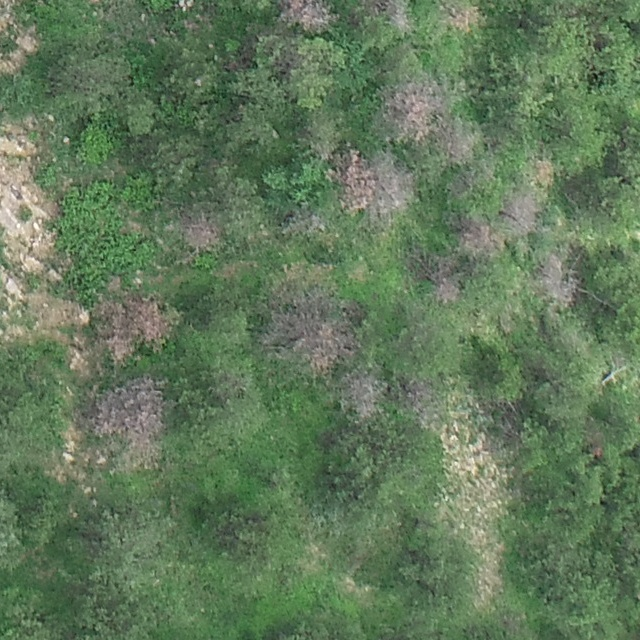unhealthy: (268, 287, 363, 377), (87, 372, 169, 452), (382, 79, 442, 140), (326, 154, 373, 213), (372, 156, 416, 212), (536, 252, 580, 307), (341, 370, 386, 422), (401, 376, 439, 428), (423, 255, 460, 307), (131, 295, 171, 341), (457, 218, 503, 257), (437, 118, 477, 162), (180, 209, 222, 250), (500, 190, 540, 233), (283, 0, 336, 32), (282, 207, 326, 236), (443, 2, 480, 33), (106, 330, 136, 366), (387, 1, 413, 35), (432, 274, 459, 305), (100, 300, 128, 325), (530, 157, 554, 185)
